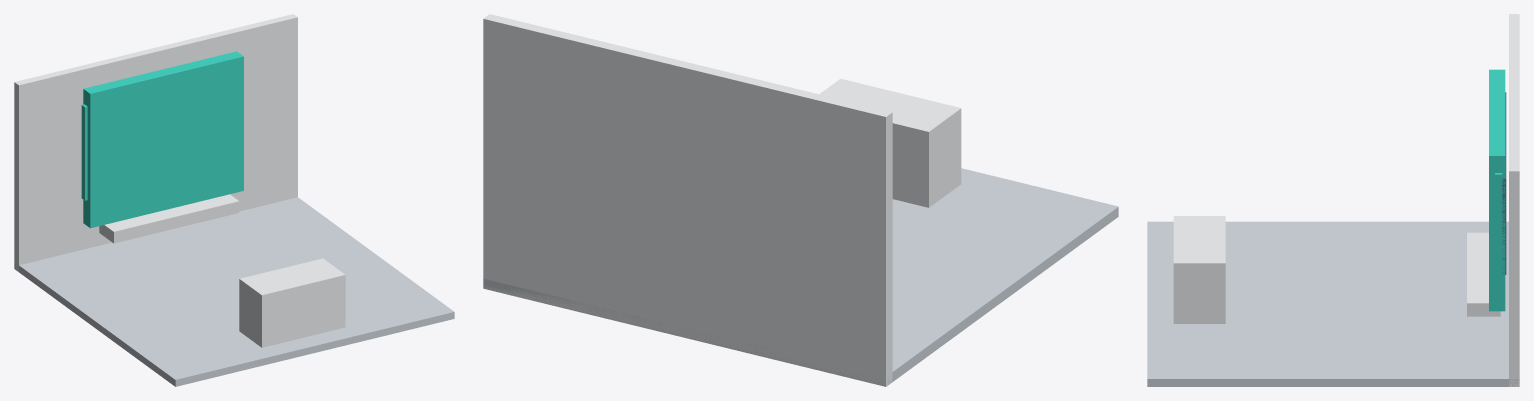
3 views of the same model, side by side, from view 1: azimuth 30°, elevation 25°; view 2: azimuth 150°, elevation 25°; view 3: azimuth 270°, elevation 25° (orthographic). The views are drawn at different scales.
Visible parts, largest first — view 1: Exhibition Booth Concept; view 2: Exhibition Booth Concept; view 3: Exhibition Booth Concept.
Boxes of the visible parts, x1,y1,x2,y2 form: Exhibition Booth Concept: (14, 14, 454, 386); Exhibition Booth Concept: (483, 14, 1118, 386); Exhibition Booth Concept: (1147, 14, 1519, 386).
Bounding box in the file's own units: 5 × 3.2 × 5.
